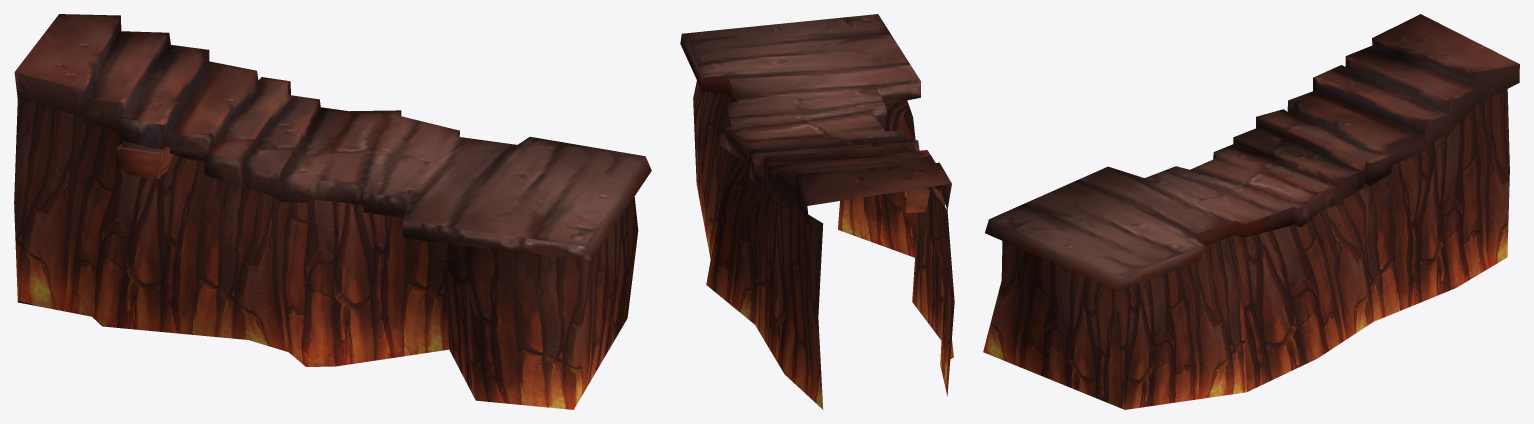
The model's file is terrain09.FBX.
3 views of the same model, side by side, from view 1: azimuth 30°, elevation 25°; view 2: azimuth 150°, elevation 25°; view 3: azimuth 270°, elevation 25° (orthographic). The views are drawn at different scales.
Visible parts, largest first — view 1: terrain09; view 2: terrain09; view 3: terrain09.
Part boxes in pixels (x1=…): terrain09: x1=14, y1=14, x2=651, y2=409; terrain09: x1=680, y1=14, x2=954, y2=409; terrain09: x1=983, y1=14, x2=1519, y2=409.
Size of the model in its own units: 1731 by 1951 by 898.
